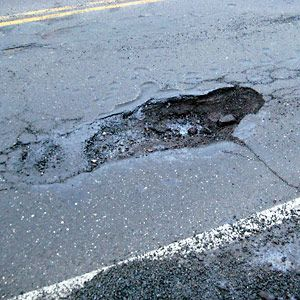pothole: (89, 84, 267, 175)
